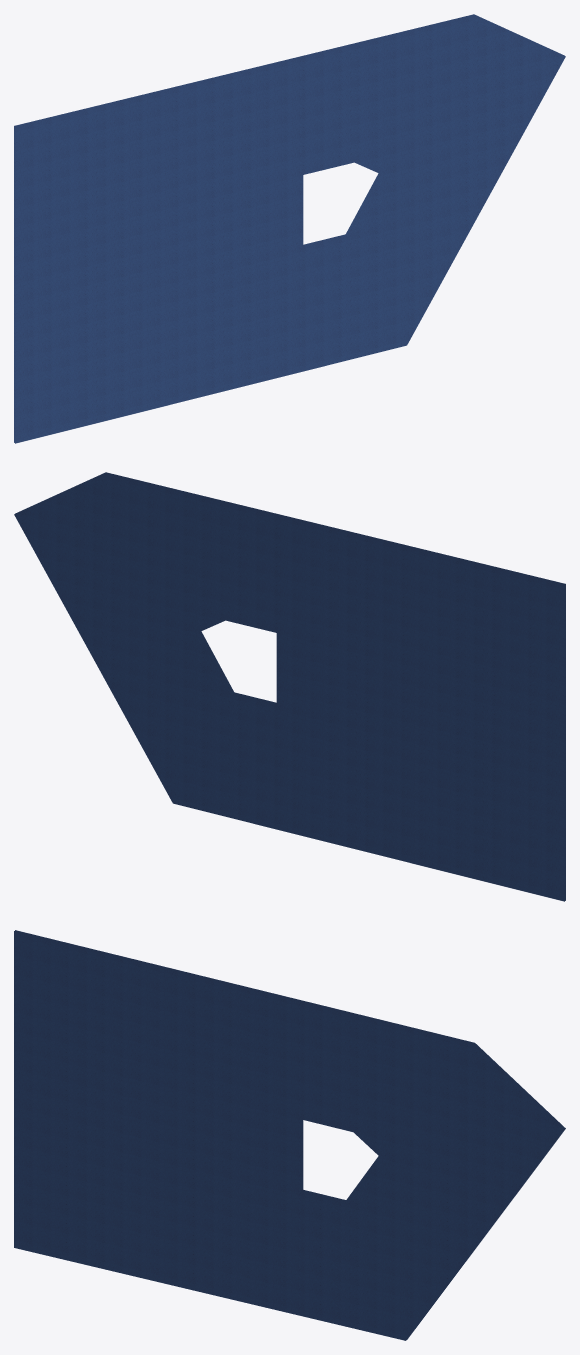
The model's file is floor_1.obj.
3 views of the same model, one above another, from view 1: azimuth 30°, elevation 25°; view 2: azimuth 150°, elevation 25°; view 3: azimuth 330°, elevation 25° (orthographic).
Visible parts, largest first — view 1: floor_1; view 2: floor_1; view 3: floor_1.
Part boxes in pixels (<box>): floor_1: <box>14,14,565,443</box>; floor_1: <box>14,472,565,901</box>; floor_1: <box>14,930,565,1340</box>.
Size of the model in its own units: 30.37 by 16.7 by 0.1.
